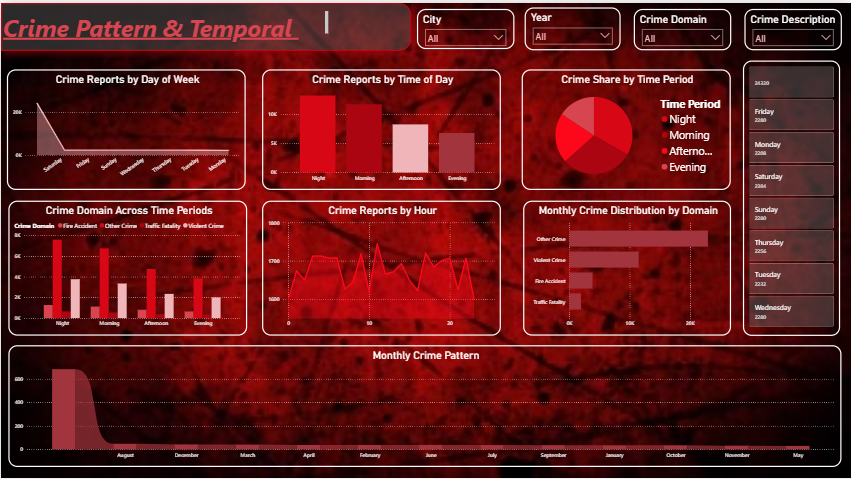

Layout of this report page (visuals, bound fields, positions):
{"tool":"powerbi","page":{"name":"Crime Patterns","canvas":[1920,1080],"ordinal":2},"visuals":[{"type":"shape","box":[0,0,927.2,108.6],"z":0},{"type":"textbox","box":[0,12.5,745,95],"z":1000},{"type":"slicer","title":"Year","fields":{"Values":["crime_clean_data.Year"]},"box":[1182.5,8.8,217.1,96.8],"z":2000},{"type":"slicer","title":"City","fields":{"Values":["crime_clean_data.City"]},"box":[938.9,14.7,220,90.9],"z":3000},{"type":"slicer","title":"Crime Domain","fields":{"Values":["crime_clean_data.Crime Domain"]},"box":[1428.9,14.7,220,93.9],"z":4000},{"type":"slicer","title":"Crime Description","fields":{"Values":["crime_clean_data.Year"]},"box":[1678.3,14.7,220,93.9],"z":5000},{"type":"ribbonChart","title":"Monthly Crime Pattern","fields":{"Category":["crime_clean_data.Month Name"],"Y":["crime_clean_data.Total Crimes"]},"box":[15,772.5,1882.5,275],"z":6000},{"type":"areaChart","title":"Crime Reports by Day of Week","fields":{"Category":["crime_clean_data.Day of Week"],"Y":["crime_clean_data.Total Crimes"]},"box":[14.7,149.6,539.9,272.9],"z":7000},{"type":"clusteredColumnChart","title":"Crime Reports by Time of Day","fields":{"Category":["crime_clean_data.Time Period"],"Y":["crime_clean_data.Total Crimes"]},"box":[590,150,540,272.5],"z":8000},{"type":"areaChart","title":"Crime Reports by Hour","fields":{"Category":["crime_clean_data.Hour"],"Y":["crime_clean_data.Total Crimes"]},"box":[590,447.5,540,305],"z":9000},{"type":"clusteredColumnChart","title":"Crime Domain Across Time Periods","fields":{"Category":["crime_clean_data.Time Period"],"Y":["crime_clean_data.Total Crimes"],"Series":["crime_clean_data.Crime Domain"]},"box":[15,447.5,540,305],"z":10000},{"type":"advancedSlicerVisual","title":"Crime Domain Across Time Periods","fields":{"Values":["crime_clean_data.Day of Week"],"Label":["CountNonNull(crime_clean_data.Time Period)"]},"box":[1677.5,130,220,622.5],"z":11000},{"type":"clusteredBarChart","title":"Monthly Crime Distribution by Domain","fields":{"Category":["crime_clean_data.Crime Domain"],"Y":["CountNonNull(crime_clean_data.Month Name)"]},"box":[1180,447.5,470,305],"z":12000},{"type":"pieChart","title":"Crime Share by Time Period","fields":{"Y":["crime_clean_data.Total Crimes"],"Category":["crime_clean_data.Time Period"]},"box":[1177.5,150,472.5,272.5],"z":13000}]}

Visuals, with their boxes in screenshot pixels (x1, y1, x2, y2), scaled from the page's 1920x1080 canvas onto the 851x480 screenshot:
shape: bbox(0, 0, 411, 48)
textbox: bbox(0, 6, 330, 48)
"Year" slicer: bbox(524, 4, 620, 47)
"City" slicer: bbox(416, 7, 514, 47)
"Crime Domain" slicer: bbox(633, 7, 731, 48)
"Crime Description" slicer: bbox(744, 7, 841, 48)
"Monthly Crime Pattern" ribbonChart: bbox(7, 343, 841, 466)
"Crime Reports by Day of Week" areaChart: bbox(7, 66, 246, 188)
"Crime Reports by Time of Day" clusteredColumnChart: bbox(262, 67, 501, 188)
"Crime Reports by Hour" areaChart: bbox(262, 199, 501, 334)
"Crime Domain Across Time Periods" clusteredColumnChart: bbox(7, 199, 246, 334)
"Crime Domain Across Time Periods" advancedSlicerVisual: bbox(744, 58, 841, 334)
"Monthly Crime Distribution by Domain" clusteredBarChart: bbox(523, 199, 731, 334)
"Crime Share by Time Period" pieChart: bbox(522, 67, 731, 188)
